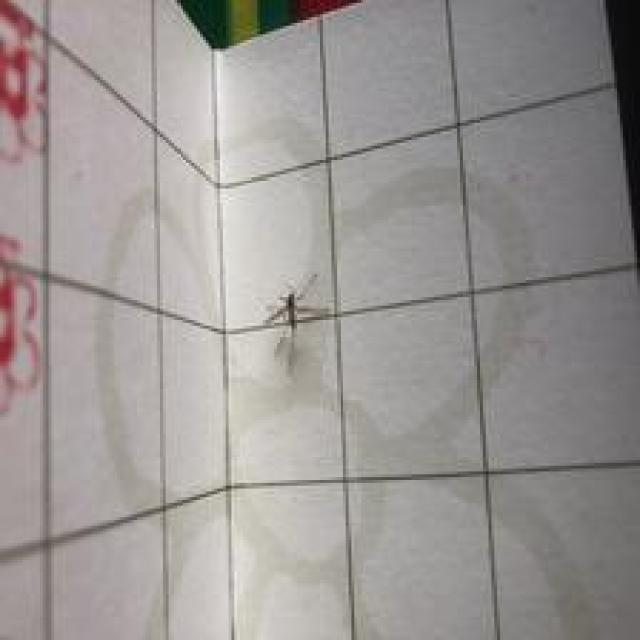Culex: (261, 270, 330, 376)
